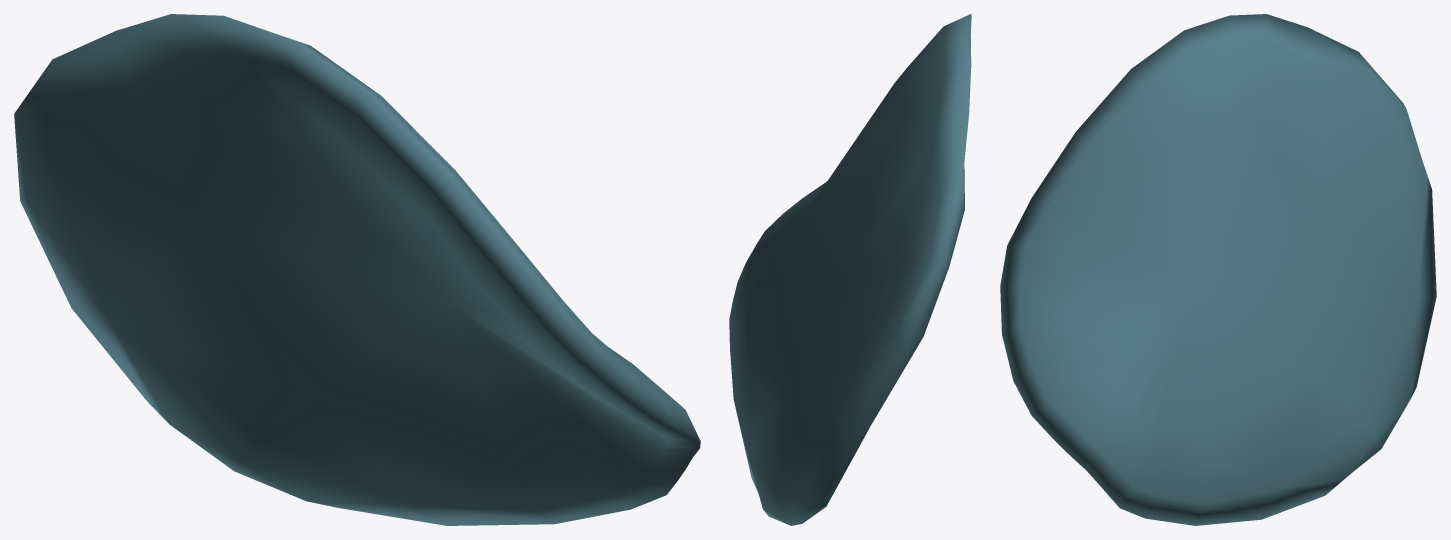
Rendered from Abductor_pollicis_longus-Insertion.l_Generated_Mesh_From_X3D.56.glb.
The picture shows the model from 3 angles, left to right: view 1: azimuth 30°, elevation 25°; view 2: azimuth 150°, elevation 25°; view 3: azimuth 270°, elevation 25°; orthographic projection. The views are drawn at different scales.
Parts seen in each view (by area): view 1: Abductor_pollicis_longus-Insertion.l_Generated_Mesh_From_X3D; view 2: Abductor_pollicis_longus-Insertion.l_Generated_Mesh_From_X3D; view 3: Abductor_pollicis_longus-Insertion.l_Generated_Mesh_From_X3D.
Part boxes in pixels (x1,y1,x2,y2): Abductor_pollicis_longus-Insertion.l_Generated_Mesh_From_X3D: [14, 14, 700, 525]; Abductor_pollicis_longus-Insertion.l_Generated_Mesh_From_X3D: [729, 14, 971, 525]; Abductor_pollicis_longus-Insertion.l_Generated_Mesh_From_X3D: [1000, 14, 1436, 525].
Size of the model in its own units: 0.00493 by 0.006 by 0.00568.
